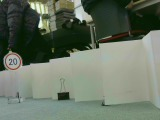speed_20: (2, 51, 23, 72)
